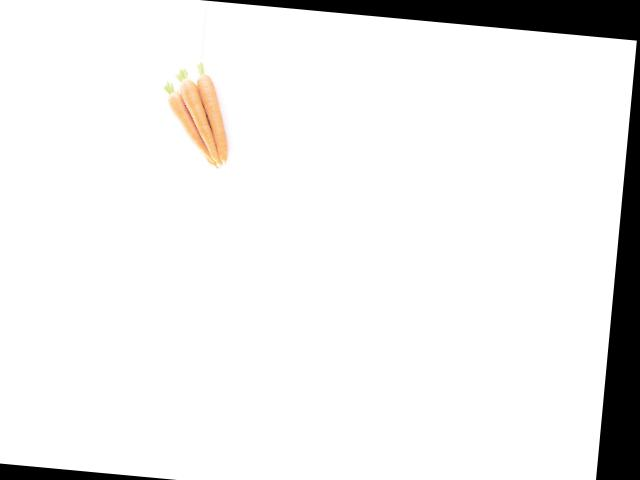carrot: (189, 58, 252, 157)
